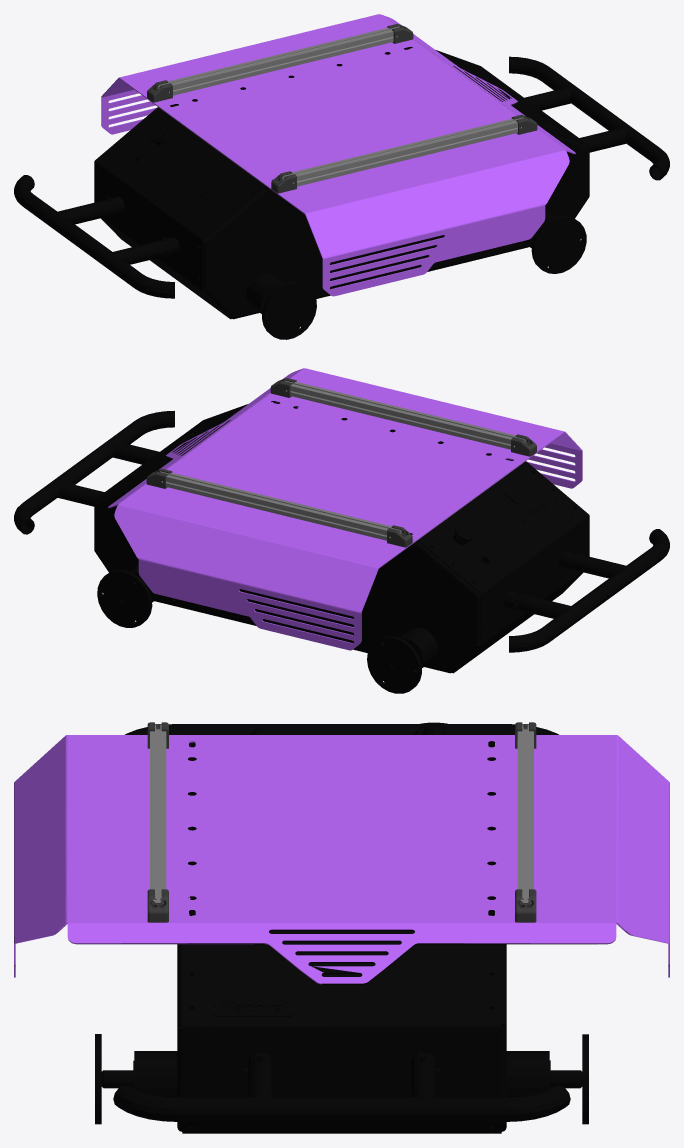
3 renders of one model, top to bottom at view 1: azimuth 30°, elevation 25°; view 2: azimuth 150°, elevation 25°; view 3: azimuth 270°, elevation 25°, orthographic. The views are drawn at different scales.
Parts seen in each view (by area): view 1: base_link; view 2: base_link; view 3: base_link.
Boxes of the visible parts, bbox=[...] form: base_link: bbox=[14, 14, 669, 339]; base_link: bbox=[14, 368, 669, 693]; base_link: bbox=[14, 722, 669, 1133].
Bounding box in the file's own units: 1104 × 797 × 286.
